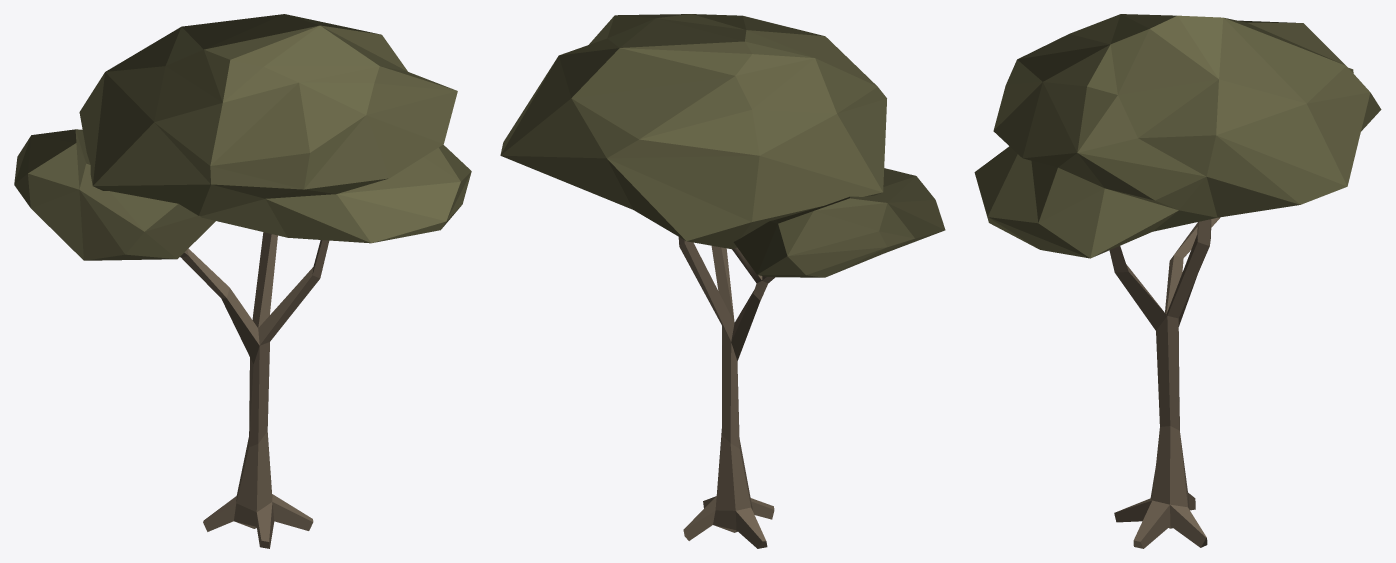
File: SM_Env_Tree_Round_01.glb
3 views of the same model, side by side, from view 1: azimuth 30°, elevation 25°; view 2: azimuth 150°, elevation 25°; view 3: azimuth 270°, elevation 25° (orthographic). The views are drawn at different scales.
Visible parts, largest first — view 1: SM_Env_Tree_Round_01; view 2: SM_Env_Tree_Round_01; view 3: SM_Env_Tree_Round_01.
Part boxes in pixels (bbox=[...]): SM_Env_Tree_Round_01: bbox=[14, 14, 471, 548]; SM_Env_Tree_Round_01: bbox=[500, 14, 945, 548]; SM_Env_Tree_Round_01: bbox=[974, 14, 1381, 548].
Size of the model in its own units: 4.22 by 5.04 by 3.68.
Materials: 1 (1 with a texture image).
